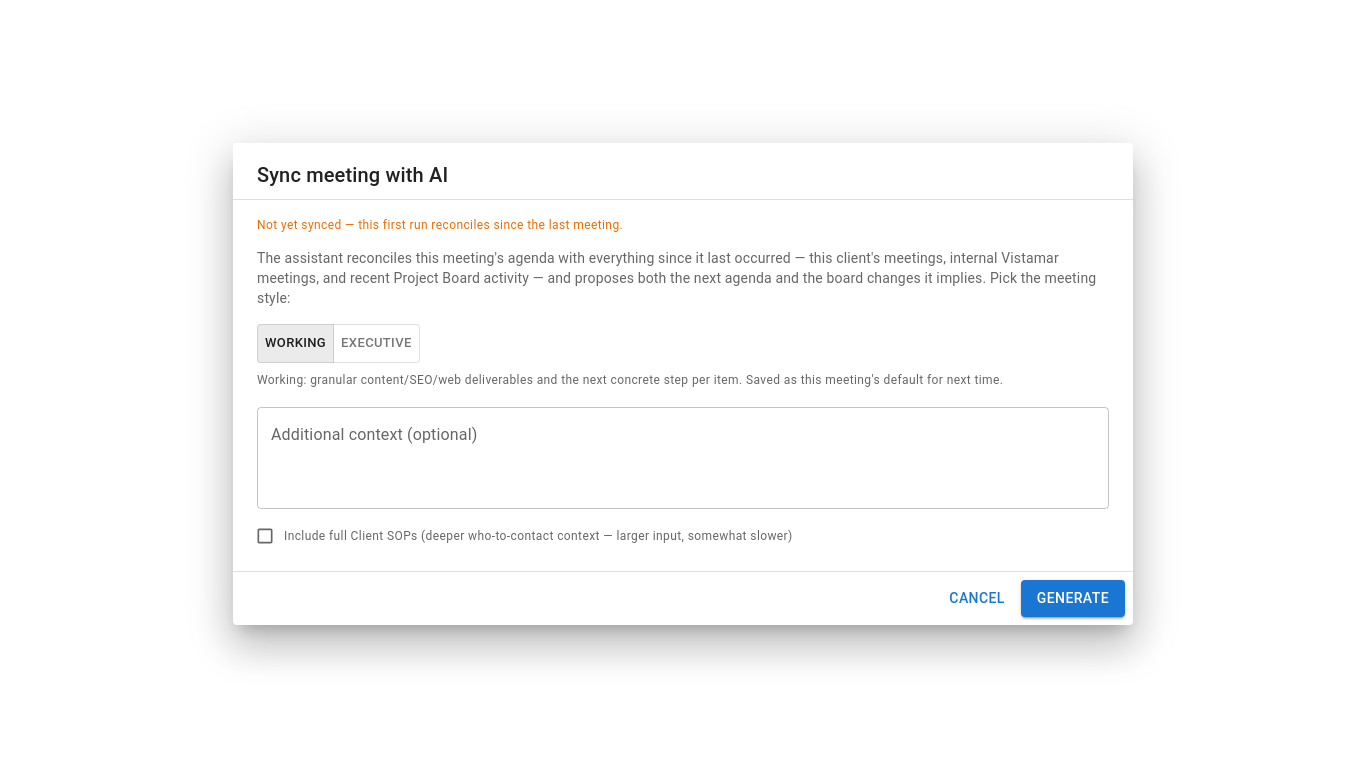
Test: SyncMeetingDialog review › a blank new-topic title disables Apply with a caption
Click the button "Generate" at (1073, 598), box left=1021, top=580, right=1125, bottom=616
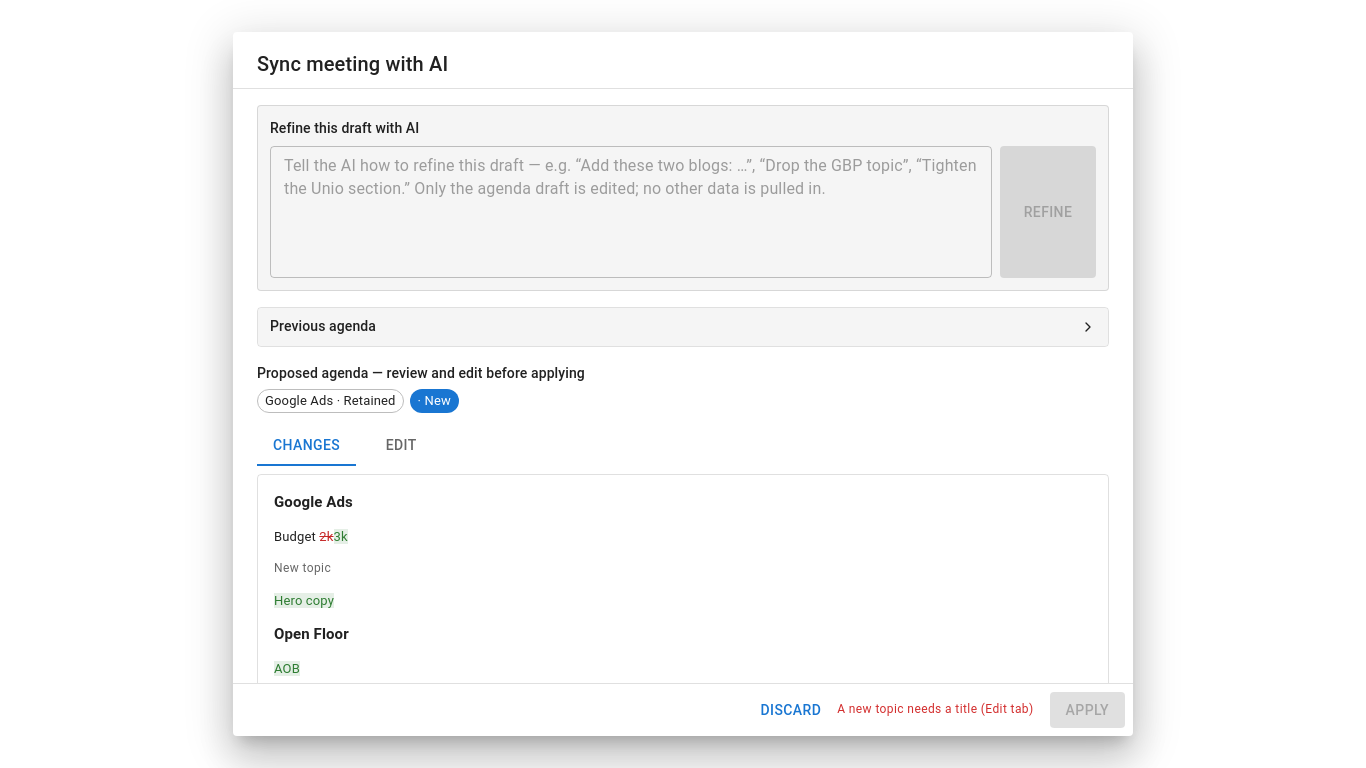
Check: the tab "Changes" is shown, box left=257, top=425, right=356, bottom=466
Check: the text "A new topic needs a title (Edit tab)" is shown, box left=837, top=700, right=1034, bottom=720
Check: the button "Apply" is disabled, box left=1050, top=692, right=1125, bottom=728
Click the tab "Edit" at (401, 446), box left=356, top=425, right=446, bottom=466
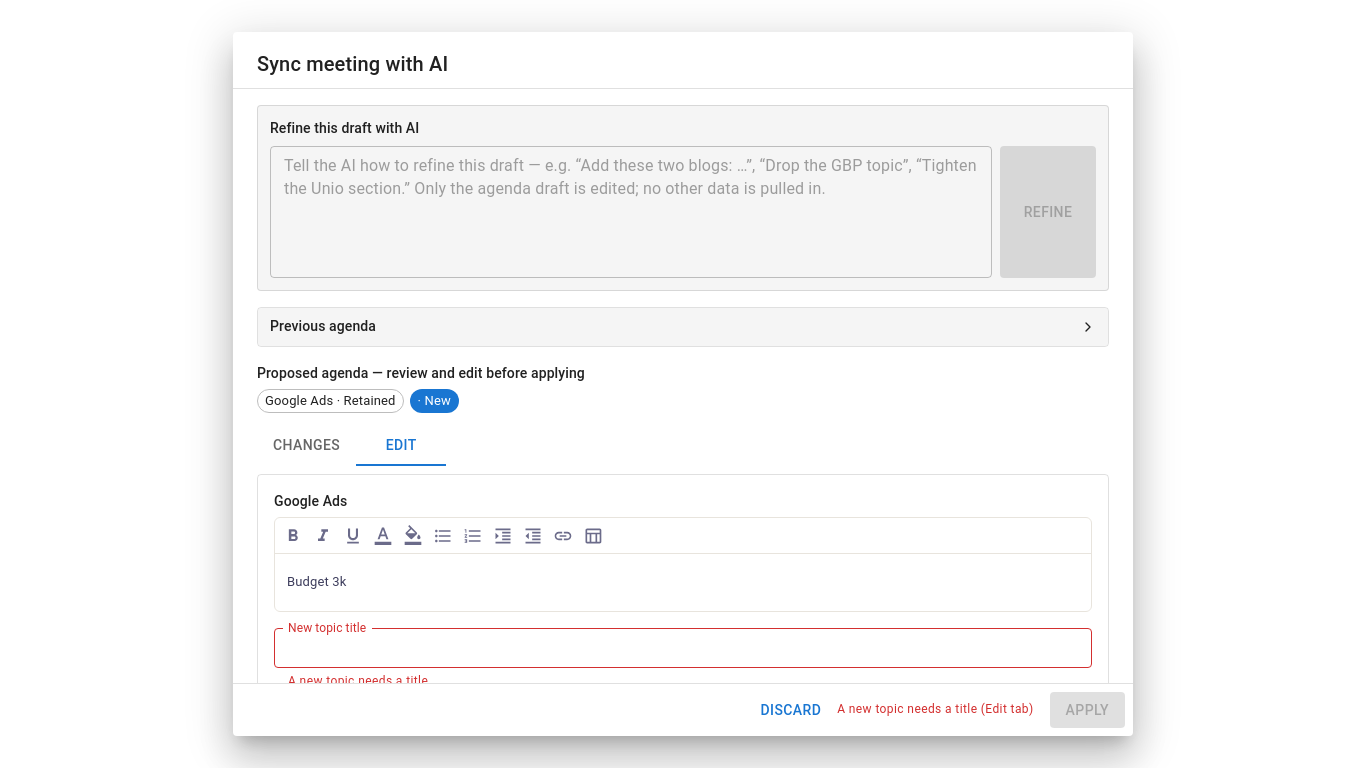
Type "Website" into the field labelled "New topic title" at (683, 648), box left=274, top=628, right=1092, bottom=668
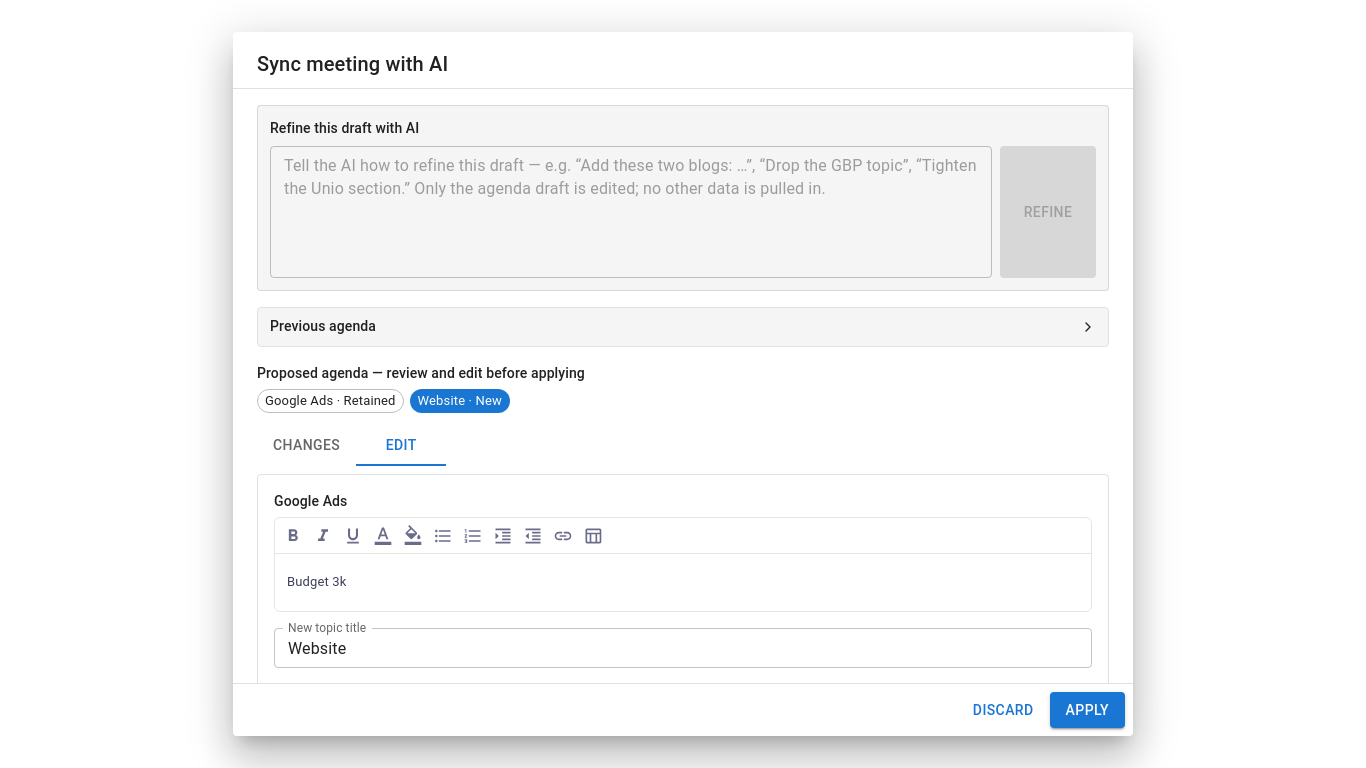
Check: the text "A new topic needs a title (Edit tab)" is gone
Check: the button "Apply" is enabled, box left=1050, top=692, right=1125, bottom=728
